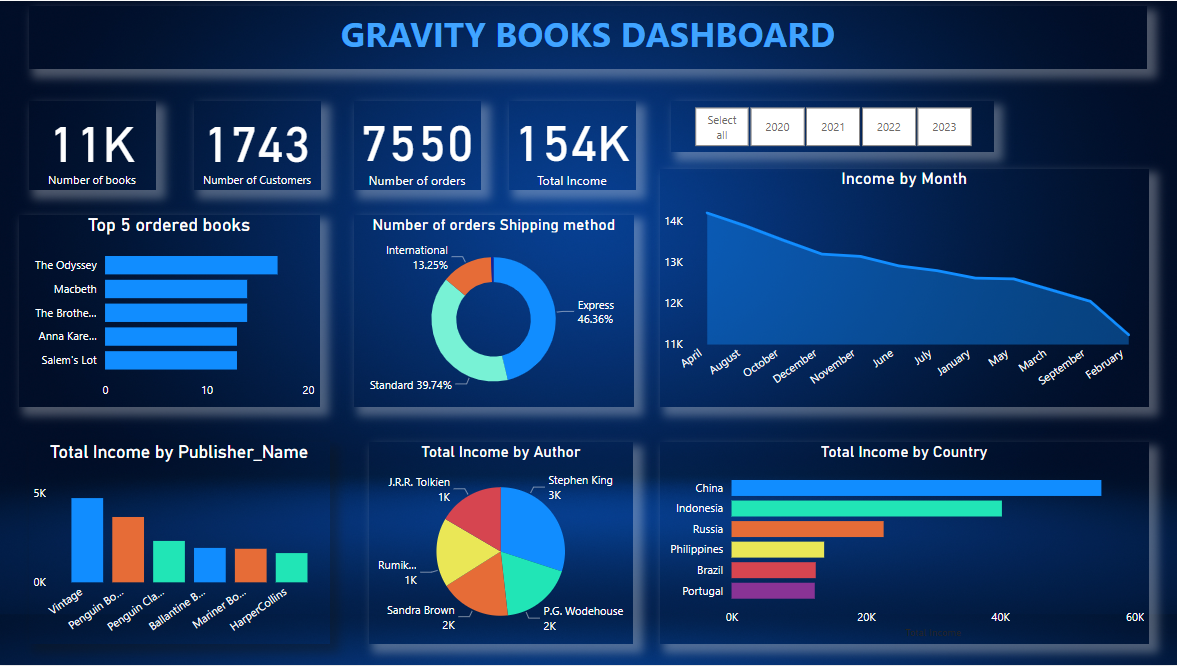

What the dashboard file says about the page in this screenshot:
{"tool":"tableau","page":{"name":"Dashboard 1","canvas":[1000,800],"ordinal":0},"visuals":[{"type":"text","box":[8,8,984,47.1]},{"type":"blank","box":[11,60,981,89]},{"type":"worksheet","title":"Sheet 7","mark":"Automatic","box":[8,63,246,80]},{"type":"worksheet","title":"Sheet 8","mark":"Automatic","box":[254,63,246,80]},{"type":"worksheet","title":"Sheet 9","mark":"Automatic","box":[500,63,246,80]},{"type":"worksheet","title":"Sheet 10","mark":"Automatic","box":[746,63,246,80]},{"type":"blank","box":[10,151,311,260]},{"type":"worksheet","title":"Sheet 3","mark":"Shape","box":[13,156.1,317,172]},{"type":"worksheet","title":"Sheet 2","mark":"Automatic","rows":["Price"],"cols":["Date"],"box":[338,156.1,649,253]},{"type":"worksheet","title":"Sheet 6","mark":"Shape","box":[13,328.1,317,81]},{"type":"text","box":[13,427,482,28]},{"type":"text","box":[505,427,482,28]},{"type":"parameter","param":"[Parameters].[Parameter 3]","box":[13,455,482,32]},{"type":"parameter","param":"[Parameters].[Year Parameter]","box":[505,455,482,32]},{"type":"worksheet","title":"Sheet 4","mark":"Circle","rows":["Calculation_1592585471136784384","Calculation_208573005695606791"],"cols":["Price"],"box":[13,487,482,300]},{"type":"worksheet","title":"Sheet 1","mark":"Automatic","rows":["Title"],"cols":["DimBook_FK"],"box":[505,487,482,300]}]}

Visuals, with their boxes on the page's 1000x800 design canvas (x1, y1, x2, y2). These are canvas units, not pixel positions in the 1177x666 screenshot, which may show the page scaled, cropped or inside an application window:
text: detection(8, 8, 992, 55)
blank: detection(11, 60, 992, 149)
"Sheet 7" worksheet: detection(8, 63, 254, 143)
"Sheet 8" worksheet: detection(254, 63, 500, 143)
"Sheet 9" worksheet: detection(500, 63, 746, 143)
"Sheet 10" worksheet: detection(746, 63, 992, 143)
blank: detection(10, 151, 321, 411)
"Sheet 3" worksheet (Shape marks): detection(13, 156, 330, 328)
"Sheet 2" worksheet: detection(338, 156, 987, 409)
"Sheet 6" worksheet (Shape marks): detection(13, 328, 330, 409)
text: detection(13, 427, 495, 455)
text: detection(505, 427, 987, 455)
parameter: detection(13, 455, 495, 487)
parameter: detection(505, 455, 987, 487)
"Sheet 4" worksheet (Circle marks): detection(13, 487, 495, 787)
"Sheet 1" worksheet: detection(505, 487, 987, 787)
